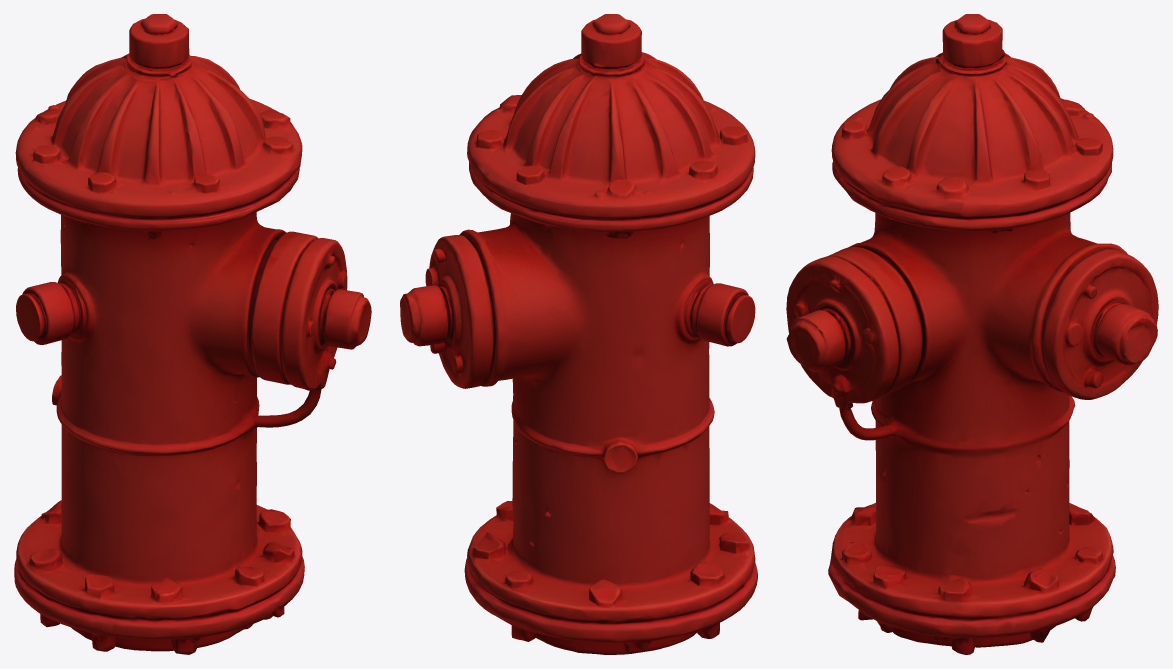
The model's file is fire-hydrant.glb.
3 renders of one model, left to right at view 1: azimuth 30°, elevation 25°; view 2: azimuth 150°, elevation 25°; view 3: azimuth 270°, elevation 25°, orthographic.
Visible parts, largest first — view 1: tripo_node_1d5fd030-a8c5-4eca-b27c-cc2275c83787; view 2: tripo_node_1d5fd030-a8c5-4eca-b27c-cc2275c83787; view 3: tripo_node_1d5fd030-a8c5-4eca-b27c-cc2275c83787.
Part boxes in pixels (x1,y1,x2,y2): tripo_node_1d5fd030-a8c5-4eca-b27c-cc2275c83787: (14, 14, 371, 654); tripo_node_1d5fd030-a8c5-4eca-b27c-cc2275c83787: (400, 14, 757, 654); tripo_node_1d5fd030-a8c5-4eca-b27c-cc2275c83787: (786, 14, 1158, 654).
Bounding box in the file's own units: 0.3892 × 0.8 × 0.4576.
Materials: 1 (1 with a texture image).
